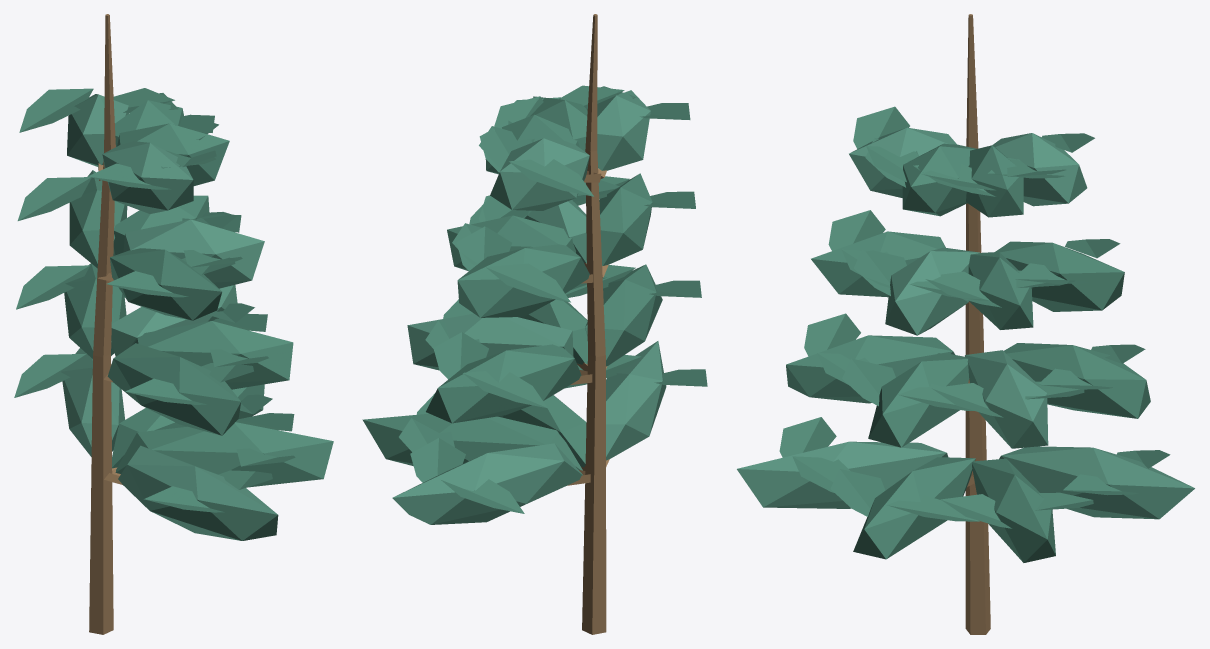
The model's file is conifer_sapling_03.glb.
The picture shows the model from 3 angles, left to right: view 1: azimuth 30°, elevation 25°; view 2: azimuth 150°, elevation 25°; view 3: azimuth 270°, elevation 25°; orthographic projection.
Visible parts, largest first — view 1: Conifer_sapling_03; view 2: Conifer_sapling_03; view 3: Conifer_sapling_03.
Boxes of the visible parts, <box> form: Conifer_sapling_03: <box>14,14,333,634</box>; Conifer_sapling_03: <box>362,14,707,634</box>; Conifer_sapling_03: <box>737,14,1194,634</box>.
Bounding box in the file's own units: 1 × 2.32 × 1.56.
